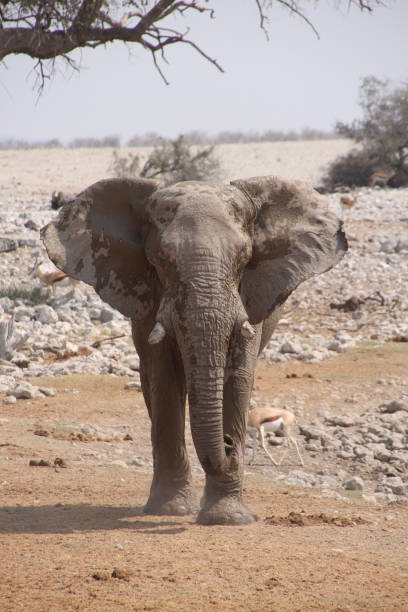africanelephant: (108, 171, 267, 393)
